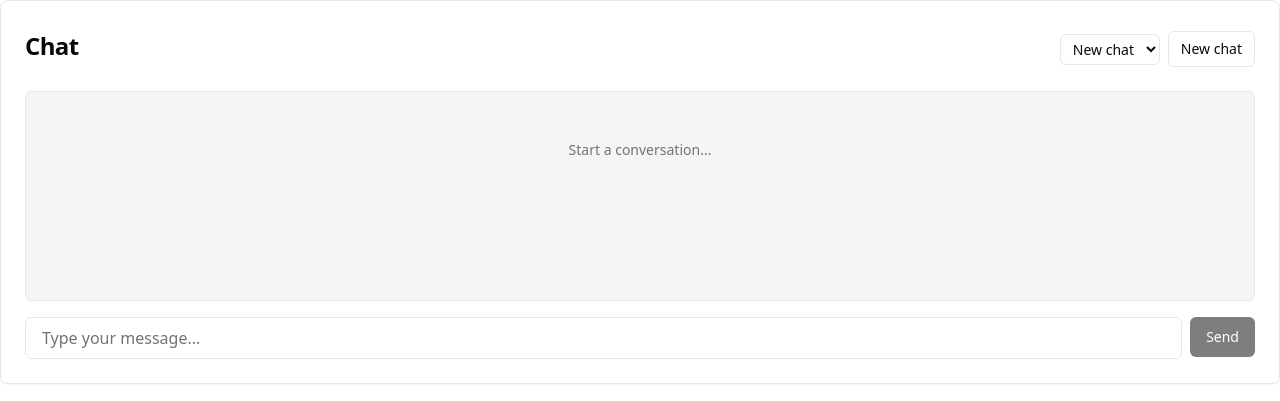
Test: ChatWindow › should display agent response
Step 1. Type "What is AI?" into the field with placeholder "Type your message..." → x=604, y=338, box x1=25 y1=317 x2=1182 y2=359
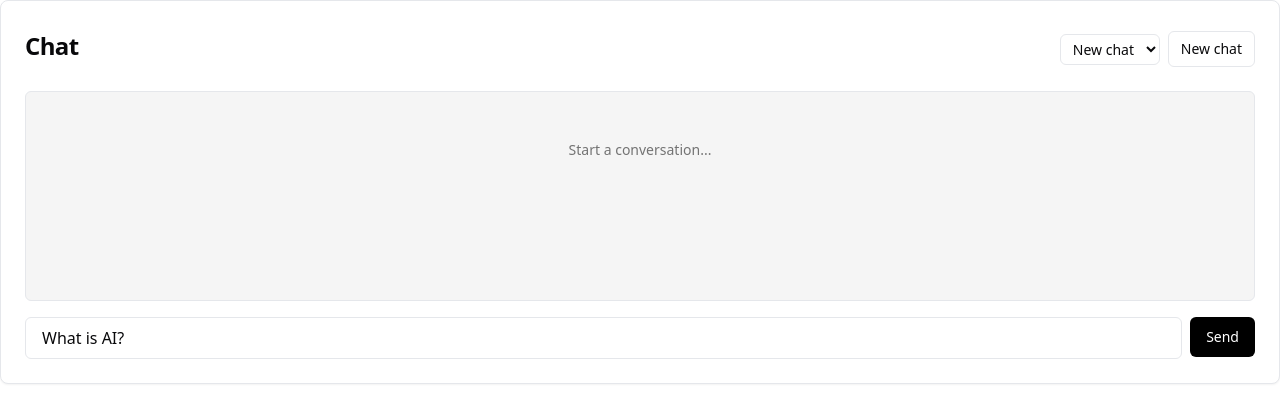
Step 2. Click the button "Send" → x=1223, y=337, box x1=1190 y1=317 x2=1255 y2=357
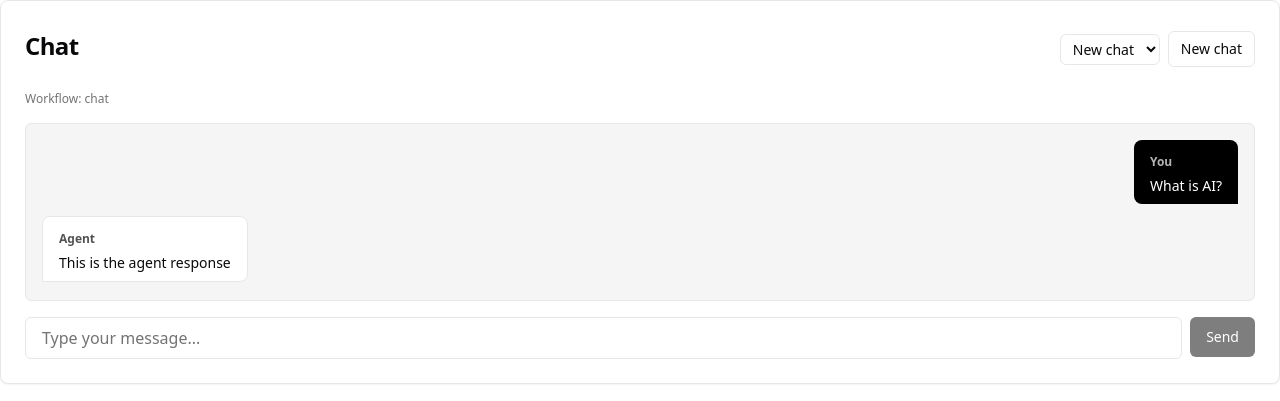
Expected: the text "This is the agent response" is shown, x1=59 y1=253 x2=231 y2=273
